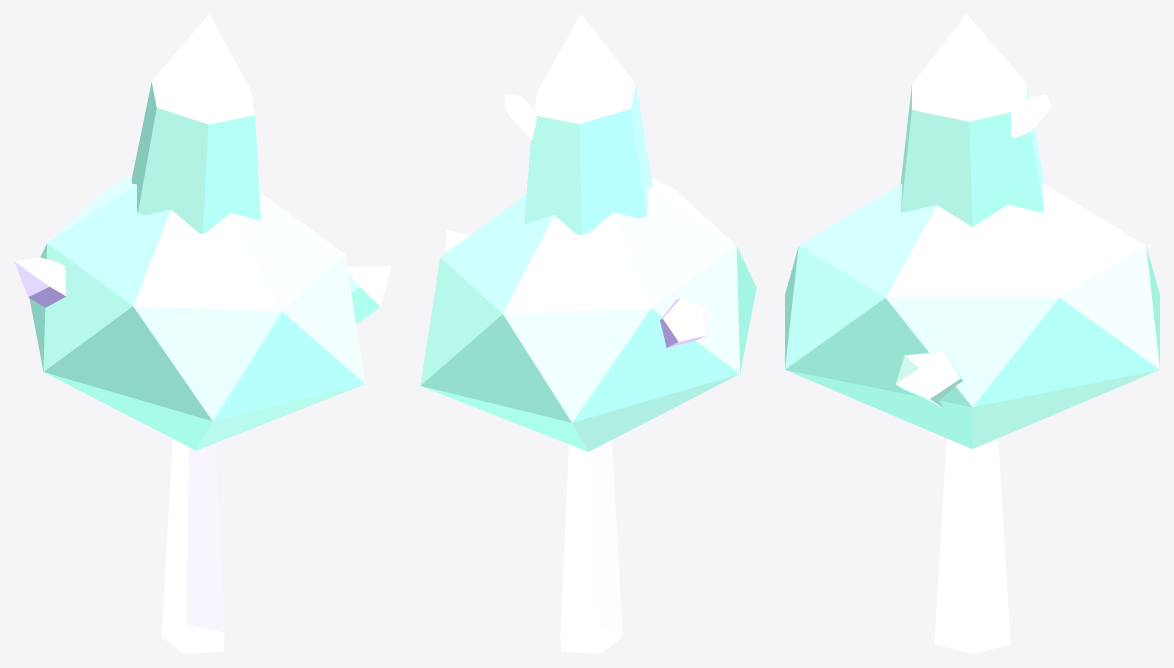
File: crystal-tree-b.glb
3 views of the same model, side by side, from view 1: azimuth 30°, elevation 25°; view 2: azimuth 150°, elevation 25°; view 3: azimuth 270°, elevation 25° (orthographic).
Visible parts, largest first — view 1: crystal-tree-b; view 2: crystal-tree-b; view 3: crystal-tree-b.
Boxes of the visible parts, left/top/right/bottom form: crystal-tree-b: left=14, top=14, right=391, bottom=653; crystal-tree-b: left=420, top=14, right=756, bottom=653; crystal-tree-b: left=785, top=14, right=1159, bottom=653.
Bounding box in the file's own units: 3.92 × 7.28 × 3.92.
